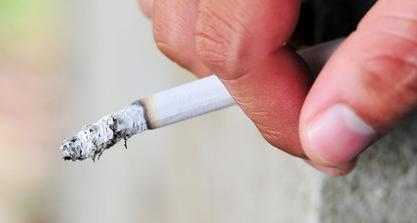smoke: (61, 35, 367, 163)
